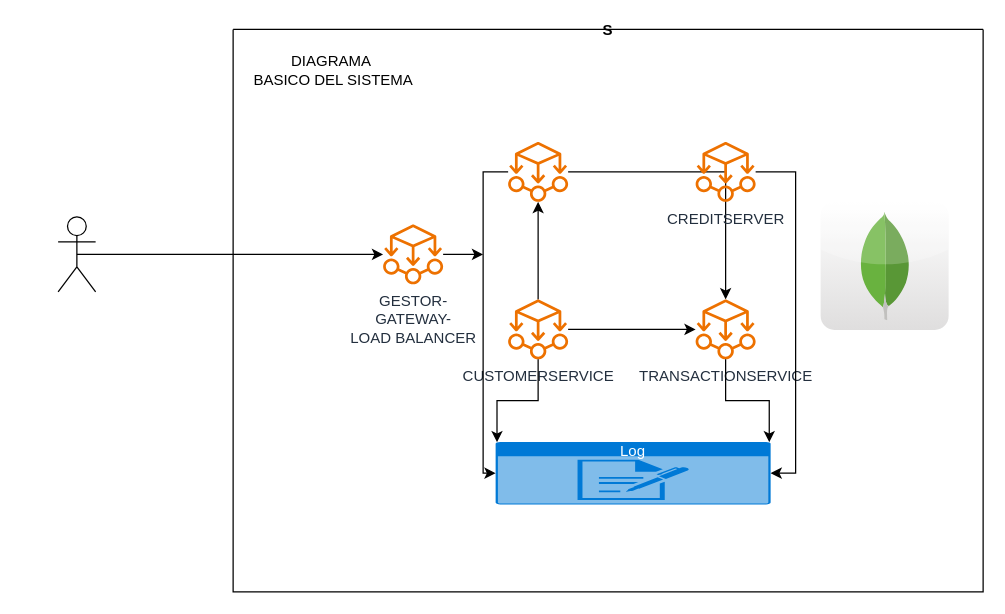
Image size: 1005x614. Some labels were removed from this diagram. The shapes that lost their labels are listed below. From the top down, each one's centre as x and y in pixels, then its label:
At (538,171): "ACCOUNTSERVICE".
At (76,254): "CLIENTE APP BANCARIA".
At (884,265): "MONGODB".
